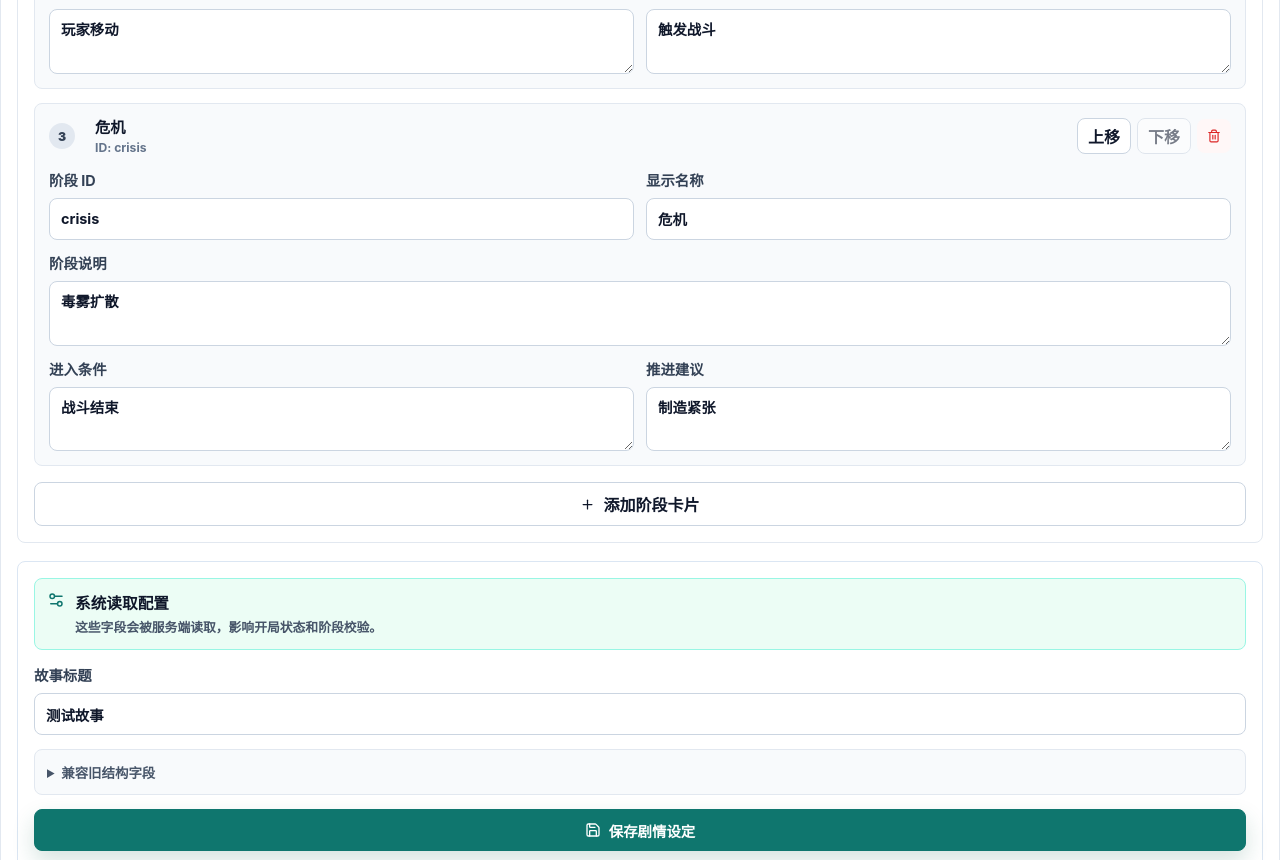
Test: StorySettingPanel › adds a new stage card
This screenshot has width=1280, height=860.
(page scrolled)
Click the button "添加阶段卡片".
click(640, 504)  # box [34, 482, 1246, 526]
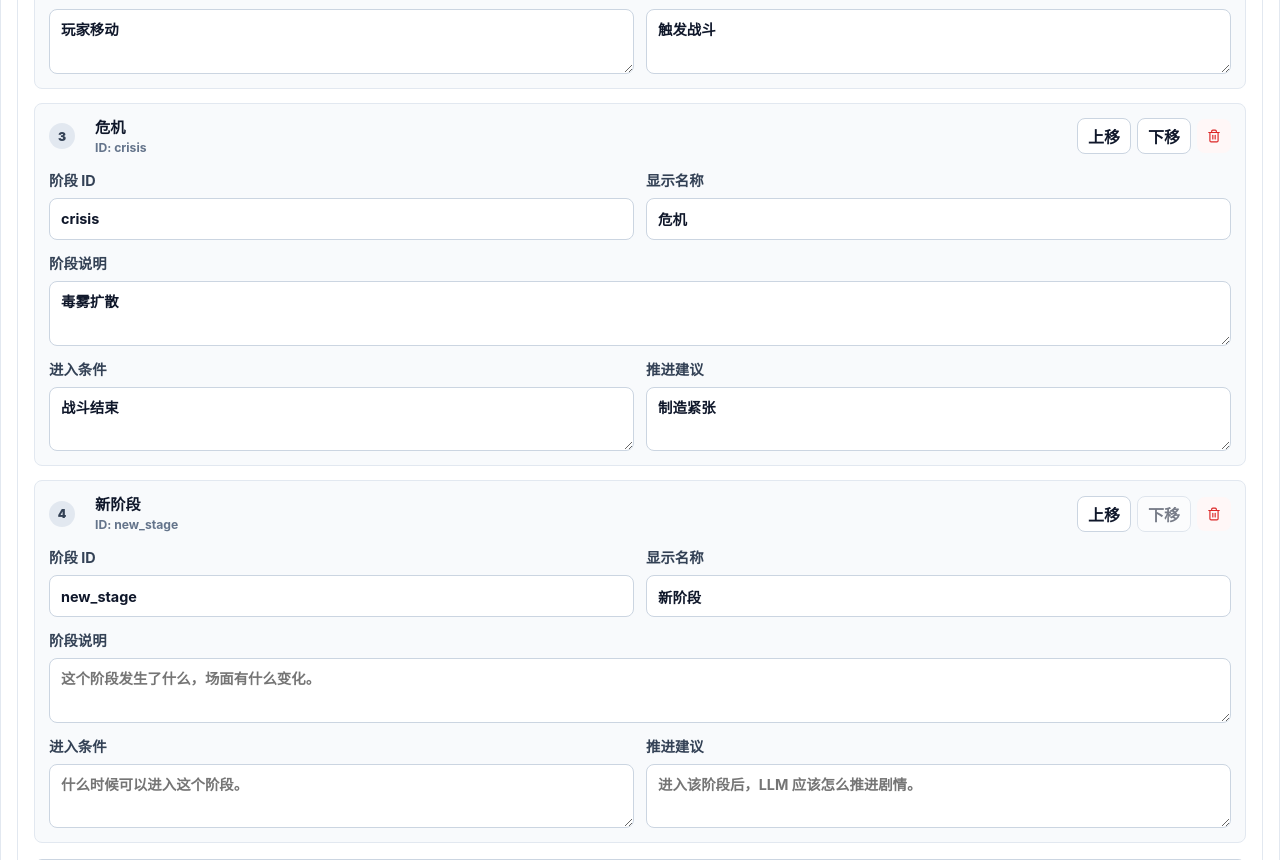
Expected: the text "新阶段" is shown, [95, 495, 141, 514]
Expected: the 2nd field showing "新阶段" is shown, [646, 575, 1231, 617]
Expected: the field showing "new_stage" below "new_stage" is shown, [49, 575, 634, 617]
